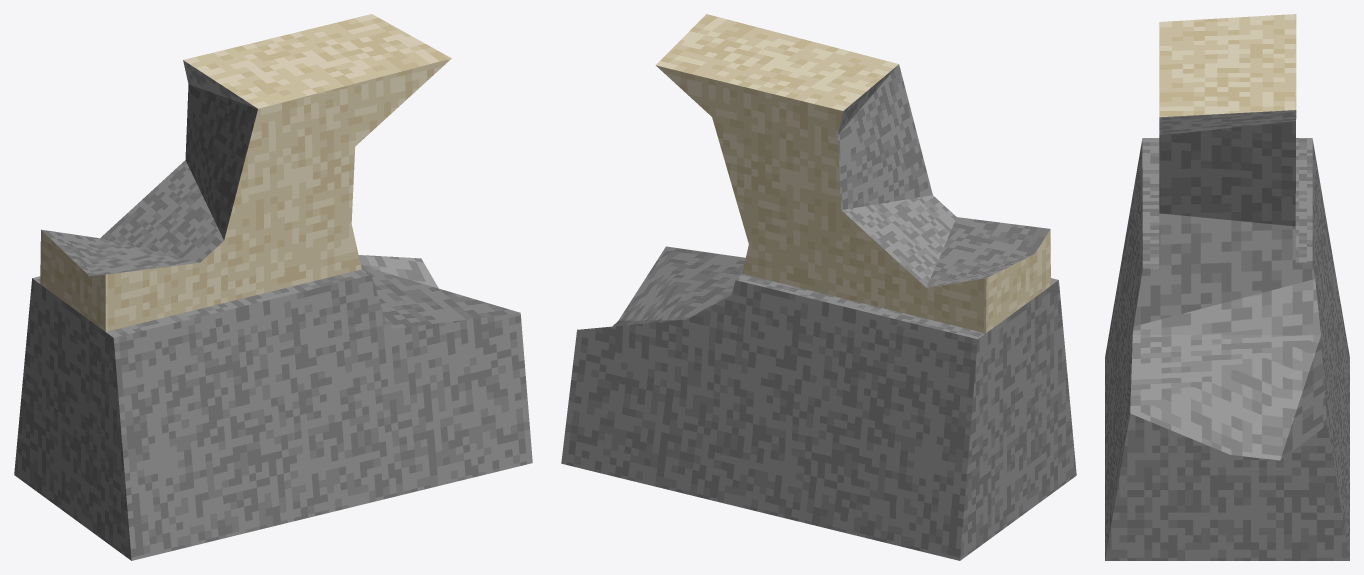
File: MuroRotoJapón.fbx
3 renders of one model, left to right at view 1: azimuth 30°, elevation 25°; view 2: azimuth 150°, elevation 25°; view 3: azimuth 270°, elevation 25°, orthographic. The views are drawn at different scales.
Parts seen in each view (by area): view 1: Muro; view 2: Muro; view 3: Muro.
Boxes of the visible parts, box(x1,y1,x2,y2) form: Muro: box(14, 14, 532, 560); Muro: box(561, 14, 1076, 560); Muro: box(1105, 14, 1349, 560).
Size of the model in its own units: 2 by 1.01 by 1.9.
Materials: 1 (1 with a texture image).
